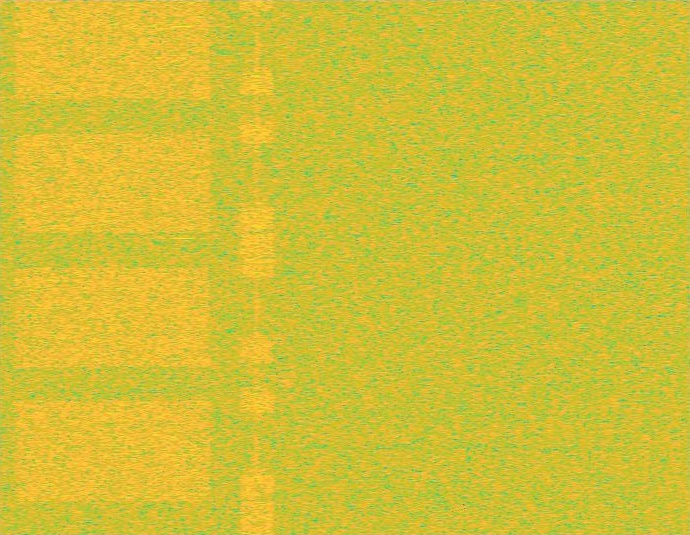5G: (9, 0, 216, 534)
DSSS: (255, 0, 259, 534)
LTE: (240, 0, 274, 534)
Radar: (176, 0, 190, 534)
